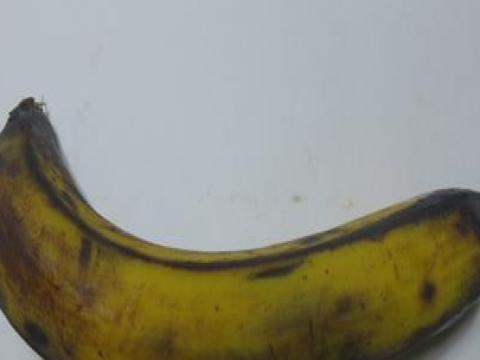rotten: (0, 94, 479, 359)
